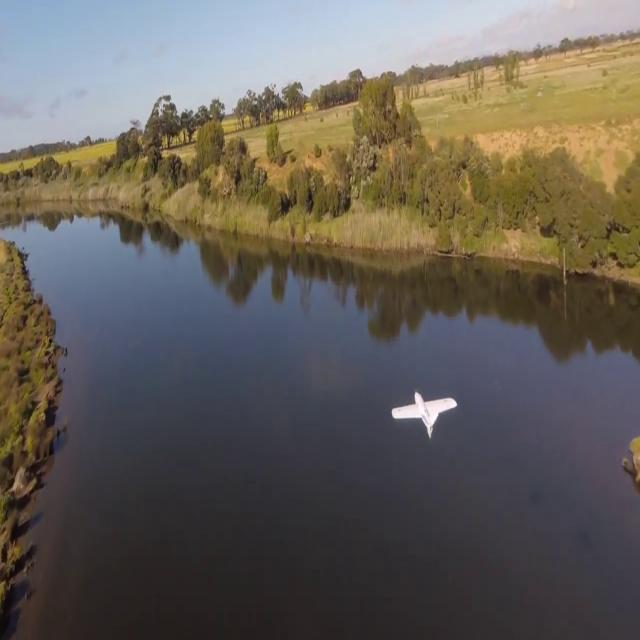iha: (422, 390, 426, 440)
